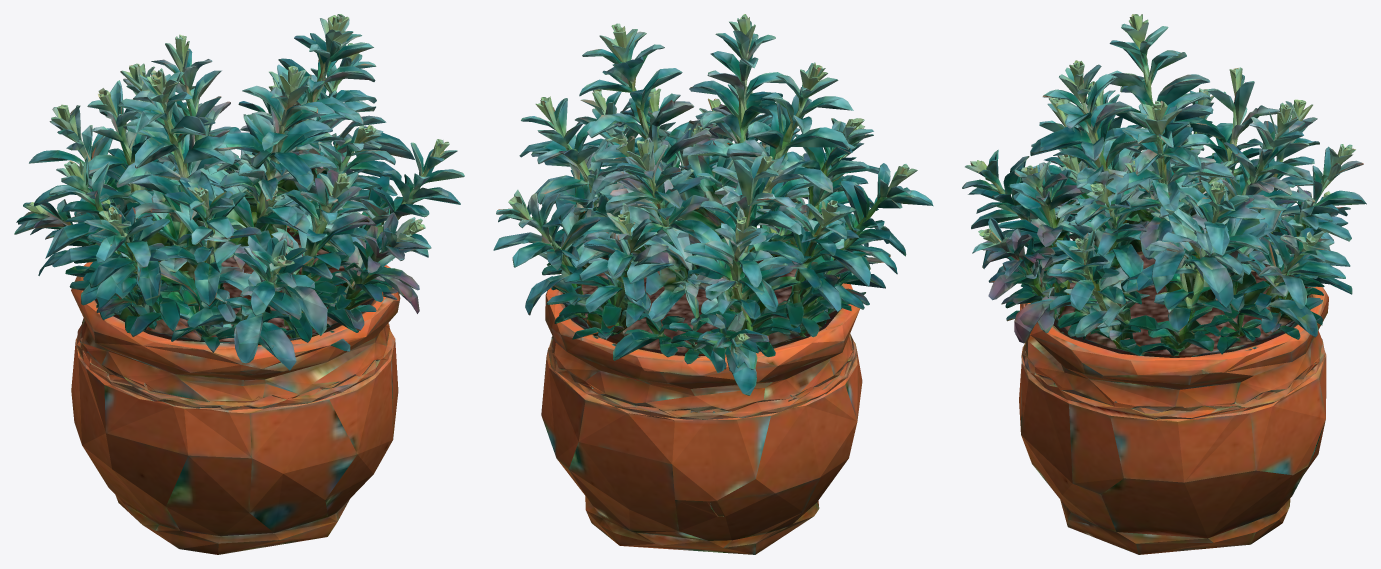
Rendered from dress-plant.glb.
3 views of the same model, side by side, from view 1: azimuth 30°, elevation 25°; view 2: azimuth 150°, elevation 25°; view 3: azimuth 270°, elevation 25° (orthographic). The views are drawn at different scales.
Size of the model in its own units: 0.8003 by 0.9961 by 0.8082.
1 material, 1 textured.
